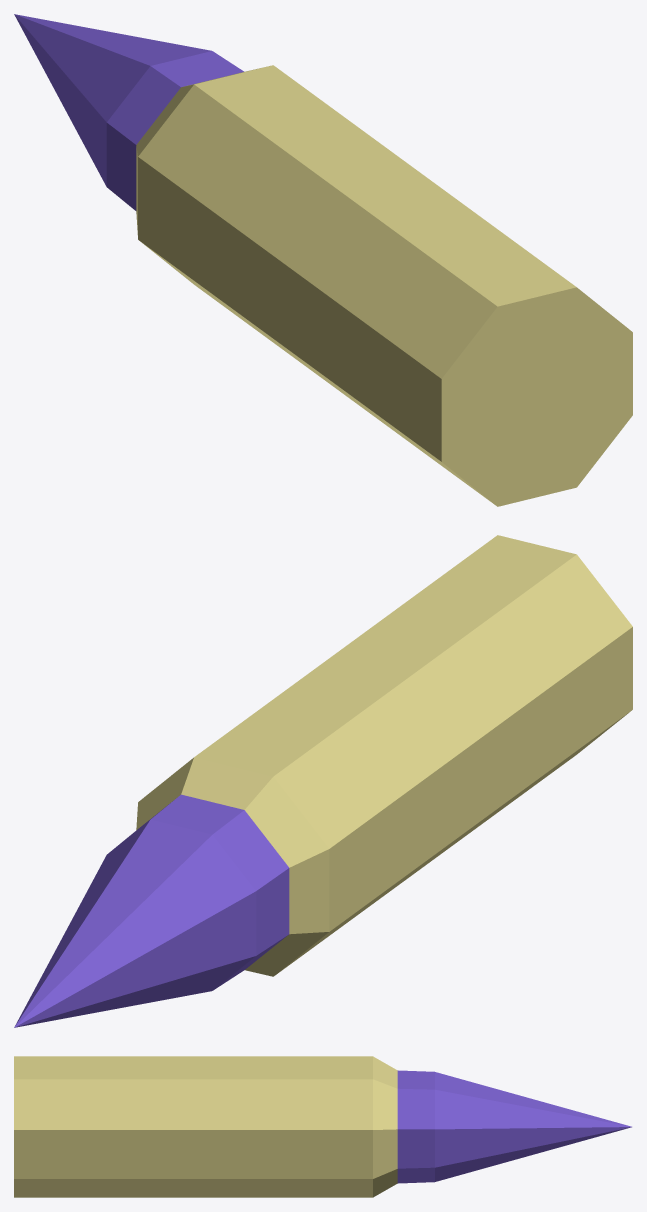
Rendered from ce_ammo_highcal_inc_a.obj.
3 renders of one model, top to bottom at view 1: azimuth 30°, elevation 25°; view 2: azimuth 150°, elevation 25°; view 3: azimuth 270°, elevation 25°, orthographic. The views are drawn at different scales.
Parts seen in each view (by area): view 1: ce_ammo_highcal_inc_a_0, ce_ammo_highcal_inc_a_3, ce_ammo_highcal_inc_a_2, ce_ammo_highcal_inc_a_1; view 2: ce_ammo_highcal_inc_a_0, ce_ammo_highcal_inc_a_3, ce_ammo_highcal_inc_a_1, ce_ammo_highcal_inc_a_2; view 3: ce_ammo_highcal_inc_a_0, ce_ammo_highcal_inc_a_3, ce_ammo_highcal_inc_a_2, ce_ammo_highcal_inc_a_1.
Part boxes in pixels (box(x1,y1,x2,y2)): ce_ammo_highcal_inc_a_0: box(138, 65, 632, 506); ce_ammo_highcal_inc_a_3: box(14, 14, 211, 186); ce_ammo_highcal_inc_a_2: box(106, 51, 243, 210); ce_ammo_highcal_inc_a_1: box(136, 68, 260, 234); ce_ammo_highcal_inc_a_0: box(194, 535, 632, 974); ce_ammo_highcal_inc_a_3: box(14, 819, 256, 1027); ce_ammo_highcal_inc_a_1: box(136, 757, 329, 976); ce_ammo_highcal_inc_a_2: box(114, 794, 289, 990); ce_ammo_highcal_inc_a_0: box(14, 1056, 372, 1197); ce_ammo_highcal_inc_a_3: box(435, 1072, 631, 1181); ce_ammo_highcal_inc_a_2: box(397, 1070, 434, 1183); ce_ammo_highcal_inc_a_1: box(373, 1056, 397, 1197).
Bounding box in the file's own units: 0.1478 × 0.1478 × 0.7.
